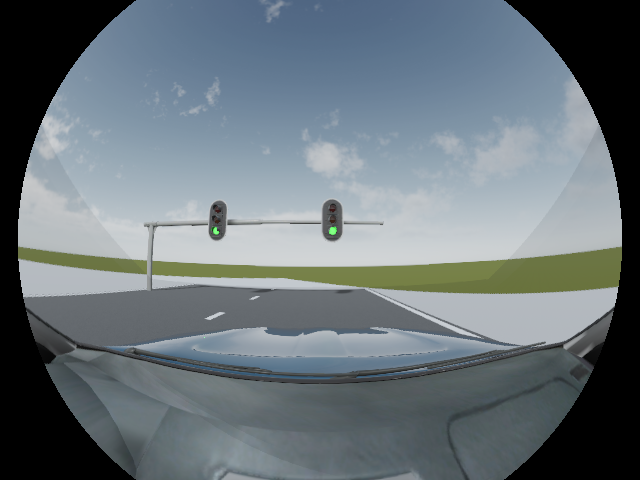Green Light: (322, 198, 343, 241), (208, 200, 227, 240)
